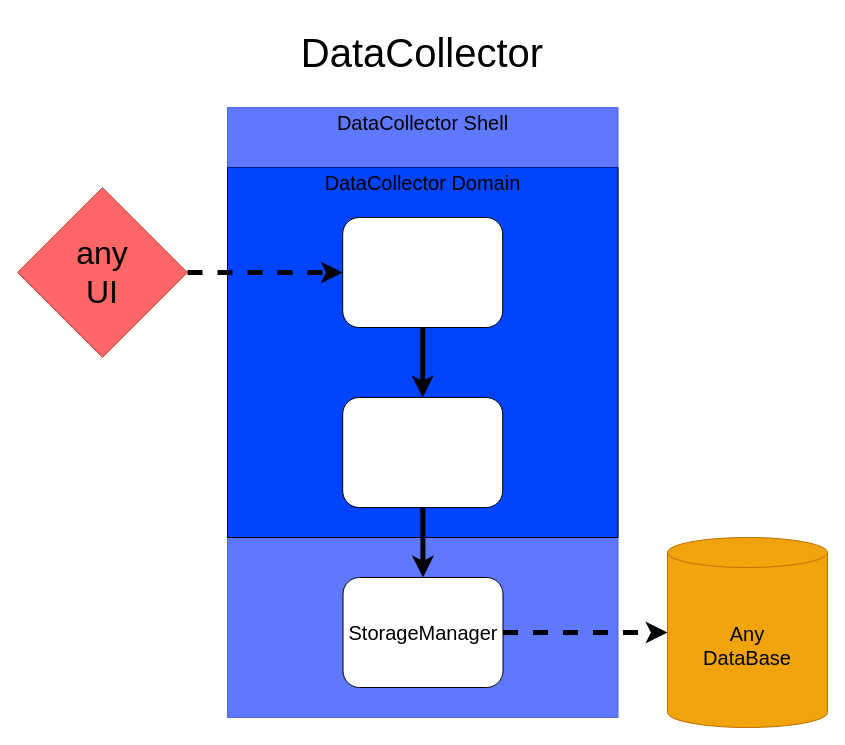
The diagram is 845 pixels wide and 745 high, and some of its shapes have lost their labels. The shapes that lost their labels are listed below. From the top down, each one's centre as x and y in pixels, then its label:
(x=422, y=272): Data Structure Builer
(x=422, y=452): Data Validator
